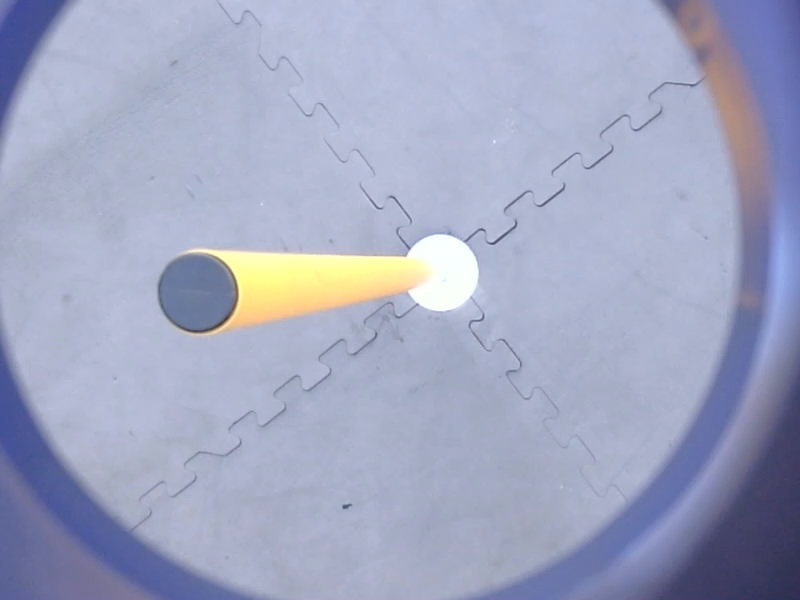tip: (150, 243, 245, 339)
